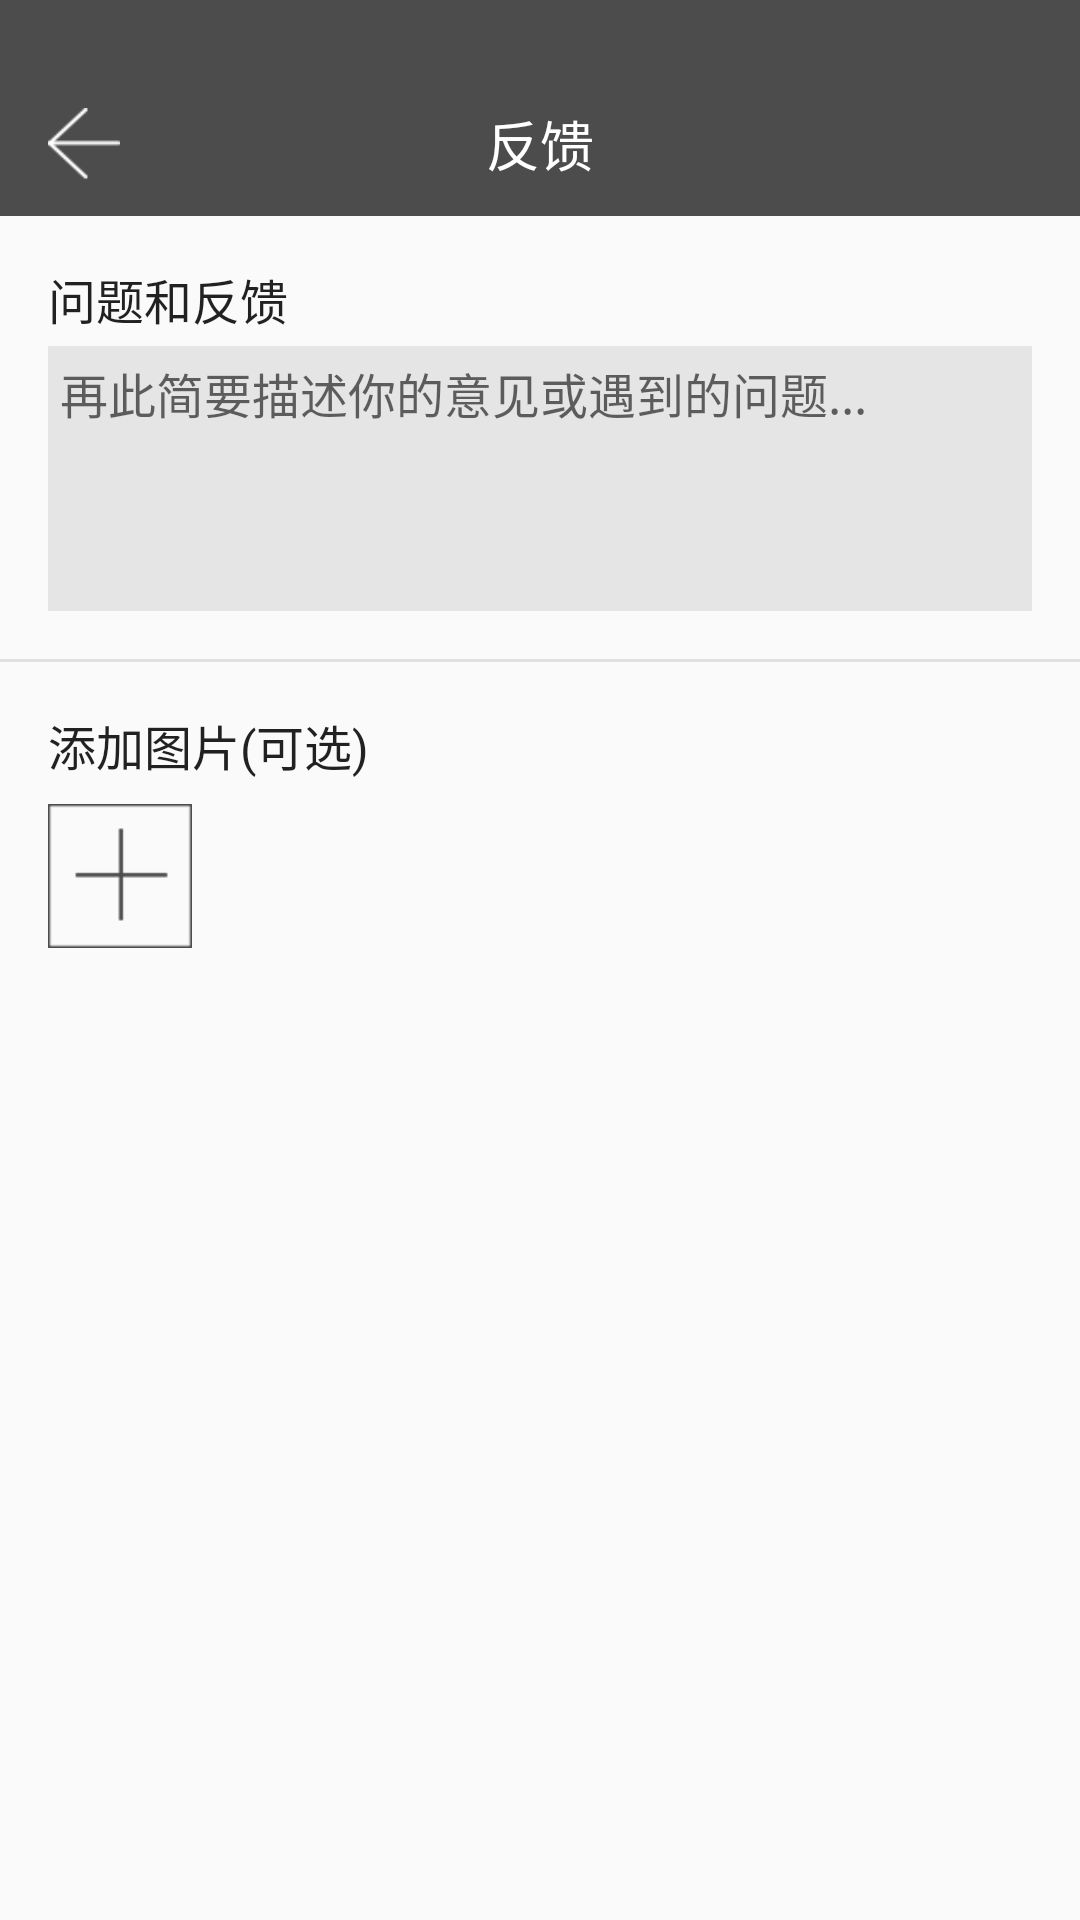

Icons on this 1080*1920 Android screen, each with the point to tap as point (x, y):
back: point (84, 143)
